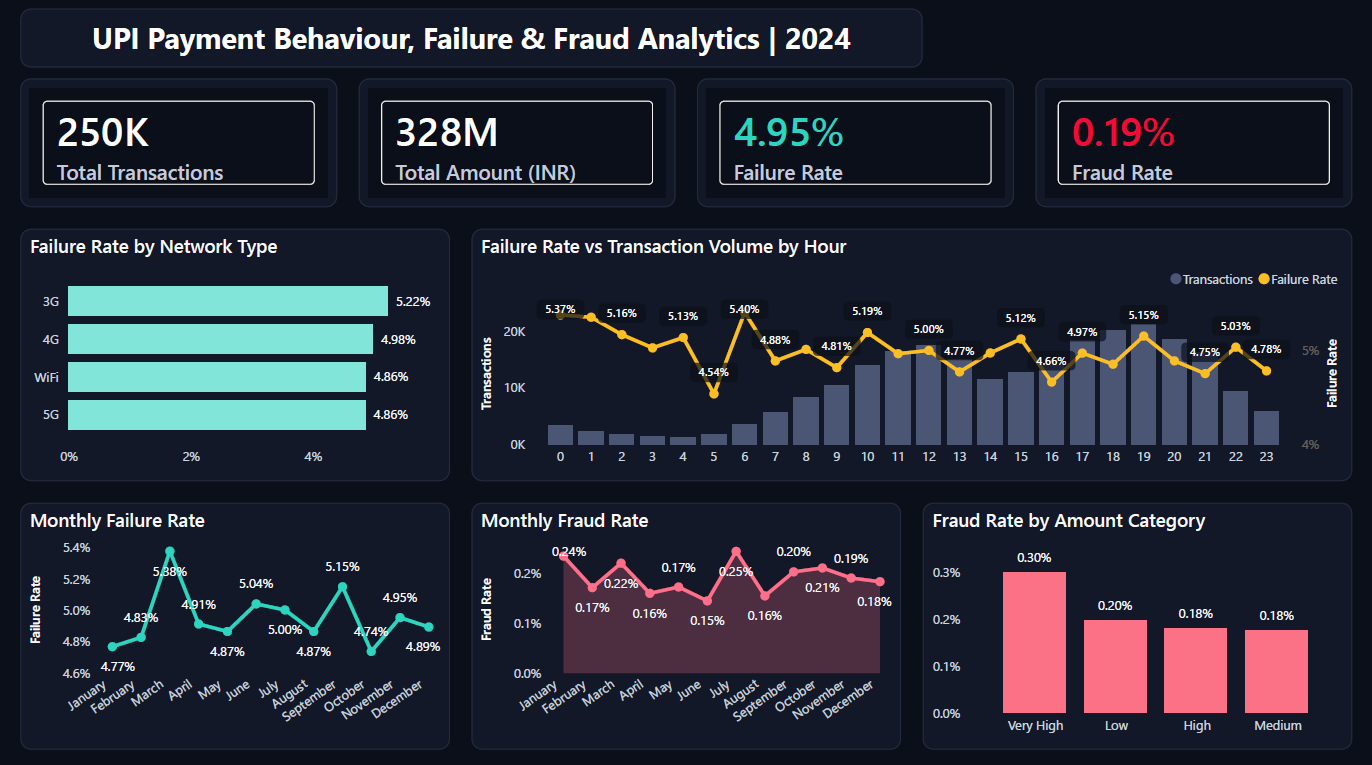

The page's visual inventory and layout, read from the dashboard file:
{"tool":"powerbi","page":{"name":"UPI_Dashboard","canvas":[1280,720],"ordinal":0},"visuals":[{"type":"clusteredColumnChart","title":"Fraud Rate by Amount Category","fields":{"Y":["Avg(upi_cleaned (1).fraud_flag)"],"Category":["upi_cleaned (1).amount_category"]},"box":[860,470,400,230],"z":0},{"type":"textbox","box":[0,0,1280,56],"z":1000},{"type":"cardVisual","fields":{"Data":["CountNonNull(upi_cleaned (1).transaction_id)"]},"box":[20,75,295,120],"z":2000},{"type":"cardVisual","fields":{"Data":["Sum(upi_cleaned (1).amount_inr)"]},"box":[335,75,295,120],"z":3000},{"type":"cardVisual","fields":{"Data":["upi_cleaned (1).Failure Rate"]},"box":[650,75,295,120],"z":4000},{"type":"cardVisual","fields":{"Data":["upi_cleaned (1).Fraud Rate"]},"box":[965,75,295,120],"z":5000},{"type":"clusteredBarChart","title":"Failure Rate by Network Type","fields":{"Category":["upi_cleaned (1).network_type"],"Y":["upi_cleaned (1).Failure Rate"]},"box":[20,215,400,235],"z":6000},{"type":"lineClusteredColumnComboChart","title":"Failure Rate vs Transaction Volume by Hour","fields":{"Category":["upi_cleaned (1).hour_of_day"],"Y2":["upi_cleaned (1).Failure Rate"],"Y":["upi_cleaned (1).Txn Count"]},"box":[440,215,820,235],"z":7000},{"type":"lineChart","title":"Monthly Failure Rate","fields":{"Y":["upi_cleaned (1).Failure Rate"],"Category":["upi_cleaned (1).month_name"]},"box":[20,470,400,230],"z":8000},{"type":"areaChart","title":"Monthly Fraud Rate","fields":{"Category":["upi_cleaned (1).month_name"],"Y":["upi_cleaned (1).Fraud Rate"]},"box":[440,470,400,230],"z":9000}]}

Visuals, with their boxes in screenshot pixels (x1, y1, x2, y2), scaled from the page's 1280x720 canvas onto the 1372x765 screenshot:
"Fraud Rate by Amount Category" clusteredColumnChart: (922,499,1351,744)
textbox: (0,0,1371,60)
cardVisual - CountNonNull(upi_cleaned (1).transaction_id): (21,80,338,207)
cardVisual - Sum(upi_cleaned (1).amount_inr): (359,80,675,207)
cardVisual - upi_cleaned (1).Failure Rate: (697,80,1013,207)
cardVisual - upi_cleaned (1).Fraud Rate: (1034,80,1351,207)
"Failure Rate by Network Type" clusteredBarChart: (21,228,450,478)
"Failure Rate vs Transaction Volume by Hour" lineClusteredColumnComboChart: (472,228,1351,478)
"Monthly Failure Rate" lineChart: (21,499,450,744)
"Monthly Fraud Rate" areaChart: (472,499,900,744)
